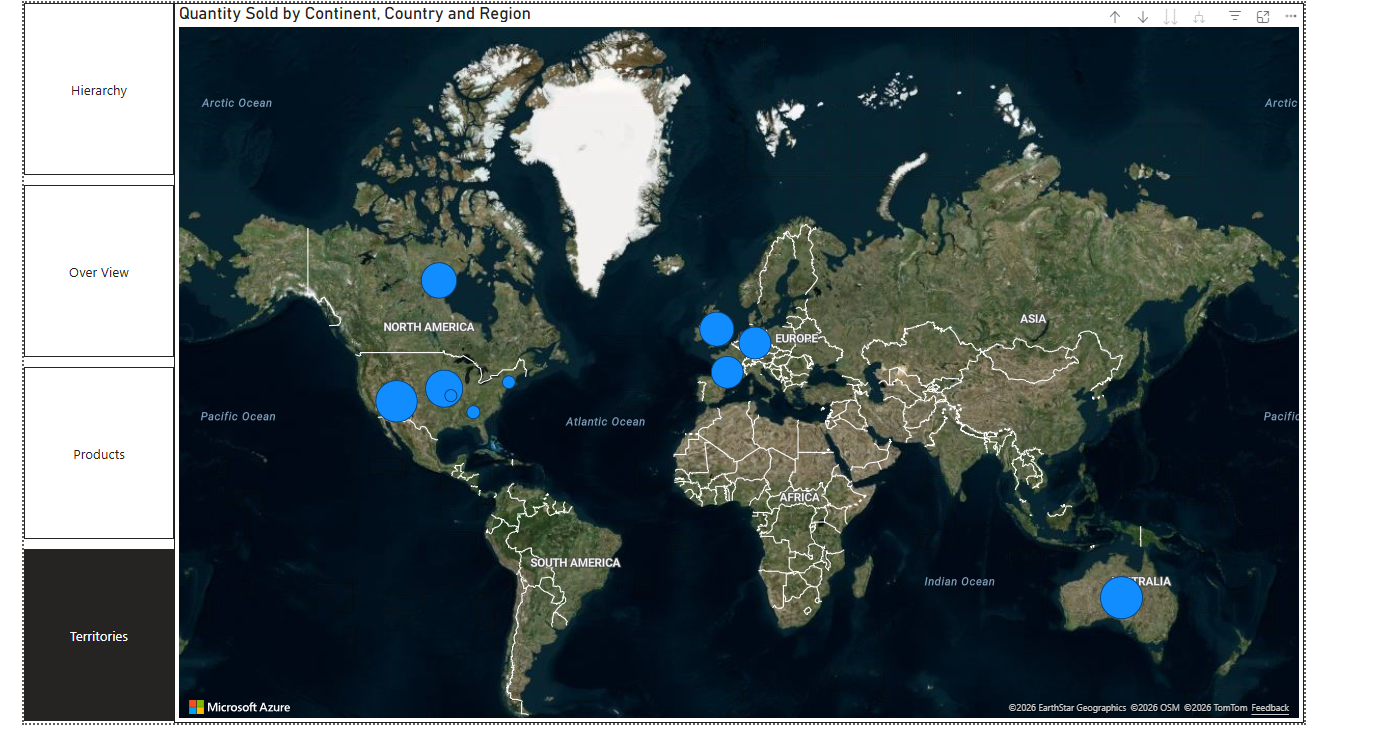

Layout of this report page (visuals, bound fields, positions):
{"tool":"powerbi","page":{"name":"Territories","canvas":[1280,720],"ordinal":4},"visuals":[{"type":"pageNavigator","box":[0,0,150.4,720.2],"z":0},{"type":"azureMap","fields":{"Size":["A Measurable Table.Quantity Sold"],"Category":["Dim Territories.Hierarchy.Continent","Dim Territories.Hierarchy.Country","Dim Territories.Hierarchy.Region"]},"box":[150,0,1130,720],"z":1}]}

Visuals, with their boxes on the page's 1280x720 design canvas (x1, y1, x2, y2). These are canvas units, not pixel positions in the 1394x750 screenshot, which may show the page scaled, cropped or inside an application window:
pageNavigator: box=[0, 0, 150, 720]
azureMap - A Measurable Table.Quantity Sold x Dim Territories.Hierarchy.Continent: box=[150, 0, 1280, 720]
